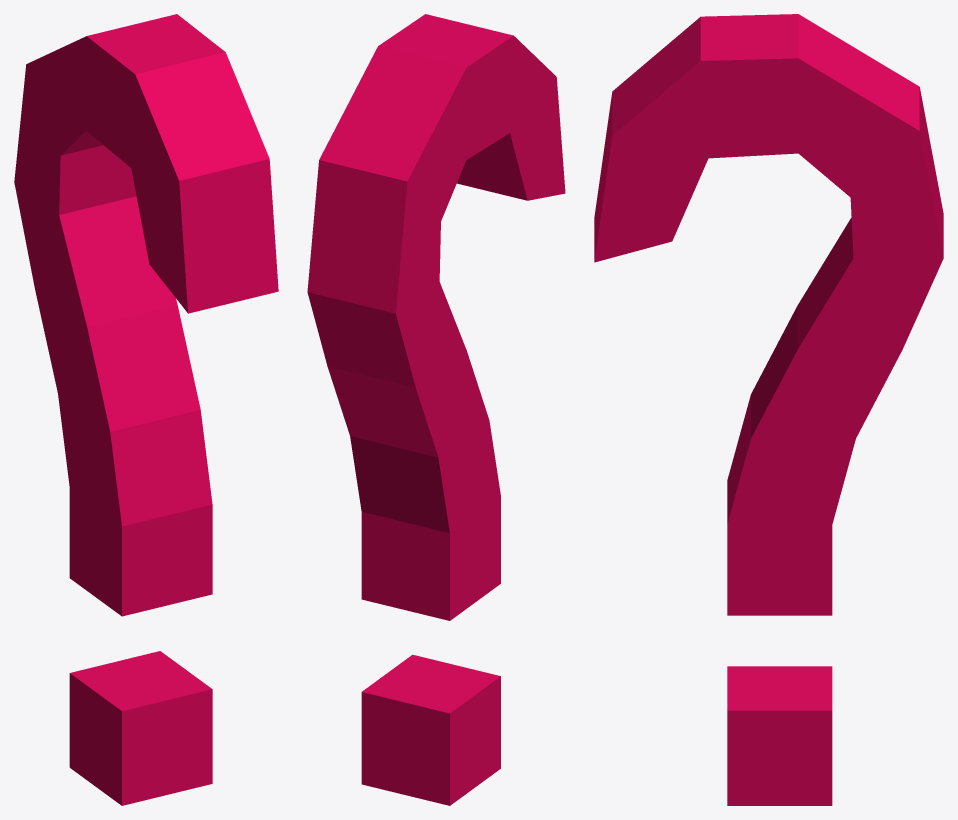
Rendered from Question.fbx.
The picture shows the model from 3 angles, left to right: view 1: azimuth 30°, elevation 25°; view 2: azimuth 150°, elevation 25°; view 3: azimuth 270°, elevation 25°; orthographic projection. The views are drawn at different scales.
Visible parts, largest first — view 1: Cube.007, Cube; view 2: Cube.007, Cube; view 3: Cube.007, Cube.
Part boxes in pixels (bbox=[...]): Cube.007: bbox=[14, 14, 278, 616]; Cube: bbox=[69, 651, 212, 805]; Cube.007: bbox=[307, 14, 565, 620]; Cube: bbox=[361, 654, 500, 805]; Cube.007: bbox=[594, 14, 943, 615]; Cube: bbox=[727, 666, 832, 805].
Size of the model in its own units: 200 by 1571 by 665.
